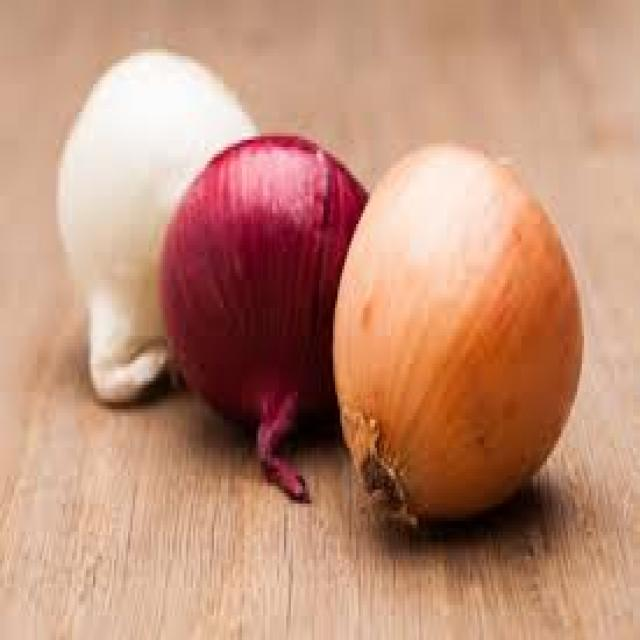organic waste: (330, 140, 582, 517), (158, 130, 366, 500), (56, 46, 258, 398)
